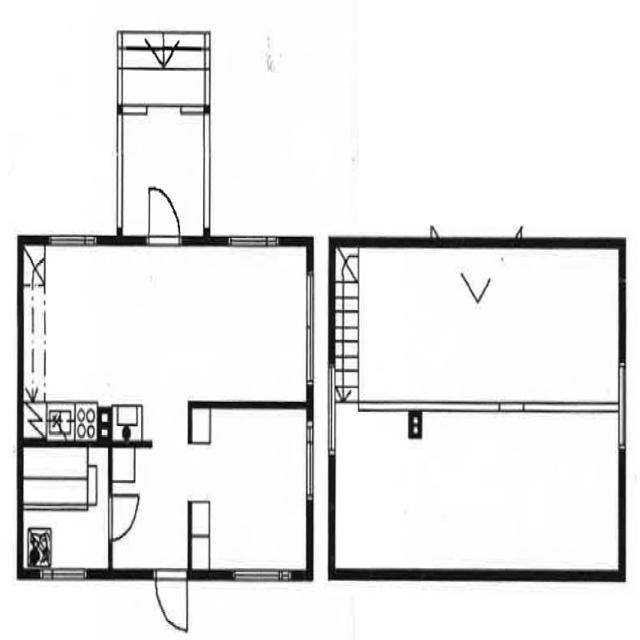door: (150, 564, 191, 635), (143, 179, 185, 246), (105, 486, 144, 546)
window: (300, 266, 318, 392), (612, 355, 632, 461), (221, 226, 286, 256), (230, 560, 296, 589), (44, 223, 103, 255), (38, 560, 94, 587), (324, 360, 338, 461), (302, 412, 317, 502)
zone: (18, 245, 311, 424), (330, 409, 621, 579), (332, 238, 616, 408), (110, 404, 310, 574), (19, 438, 110, 573)
